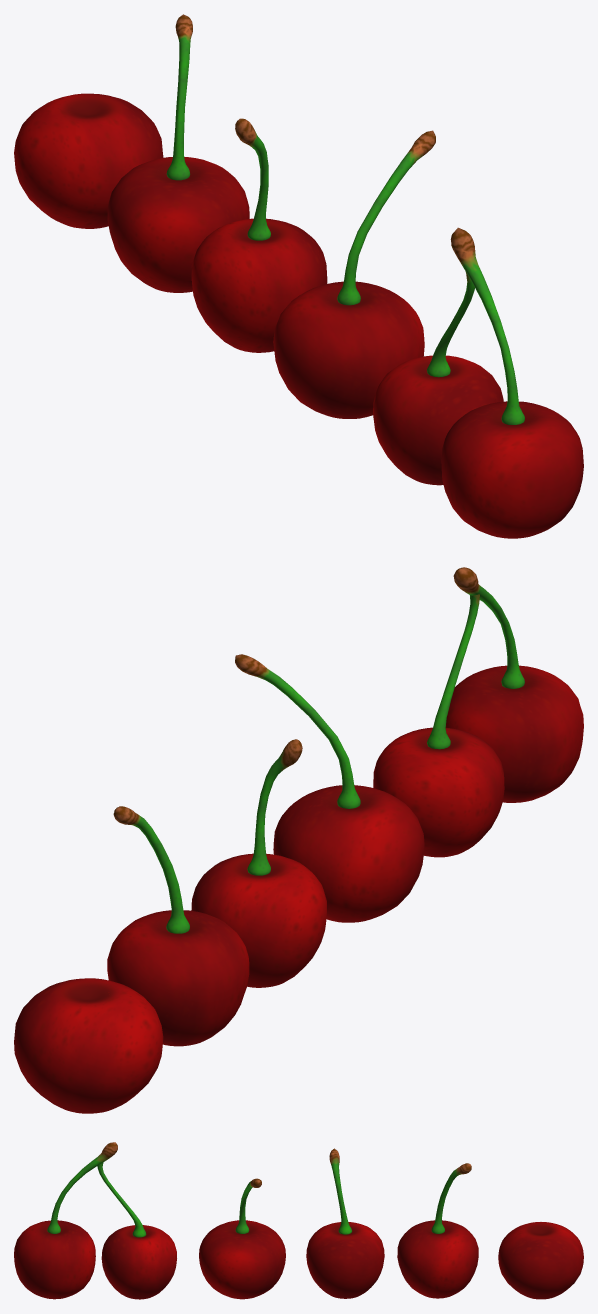
File: cherry.glb
The picture shows the model from 3 angles, top to bottom: view 1: azimuth 30°, elevation 25°; view 2: azimuth 150°, elevation 25°; view 3: azimuth 270°, elevation 25°; orthographic projection. The views are drawn at different scales.
Visible parts, largest first — view 1: Object_3; view 2: Object_3; view 3: Object_3.
Boxes of the visible parts, x1,y1,x2,y2 form: Object_3: (14, 14, 583, 538); Object_3: (14, 567, 583, 1113); Object_3: (14, 1142, 583, 1299).
Bounding box in the file's own units: 1.06 × 1.63 × 5.53.
1 material, 1 textured.
